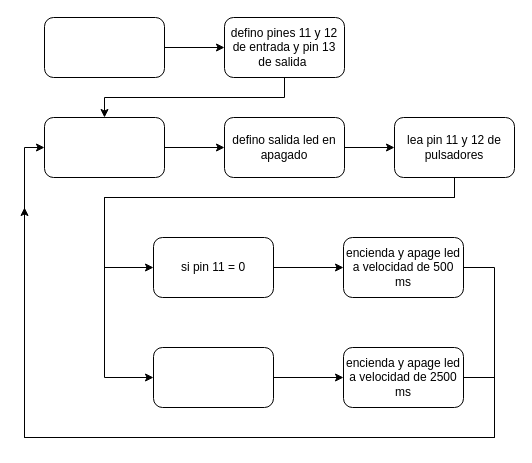
This 532x463 diagram has some shape labels left out. Here are the shapes that lost their labels. From the top down, the box of each, then its label:
(44, 16, 164, 78): setup
(44, 116, 164, 178): loop
(152, 346, 274, 408): si pin 12 = 0
